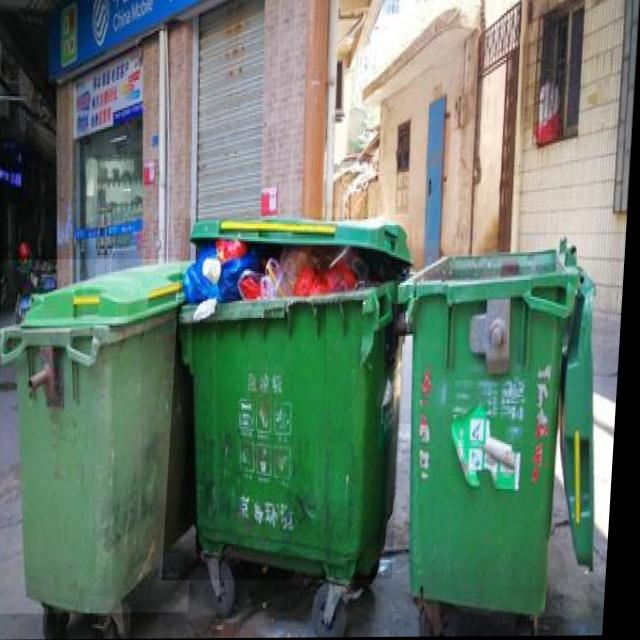garbage_bin: (388, 239, 613, 618), (0, 259, 212, 614)
overflow: (169, 217, 416, 581)
